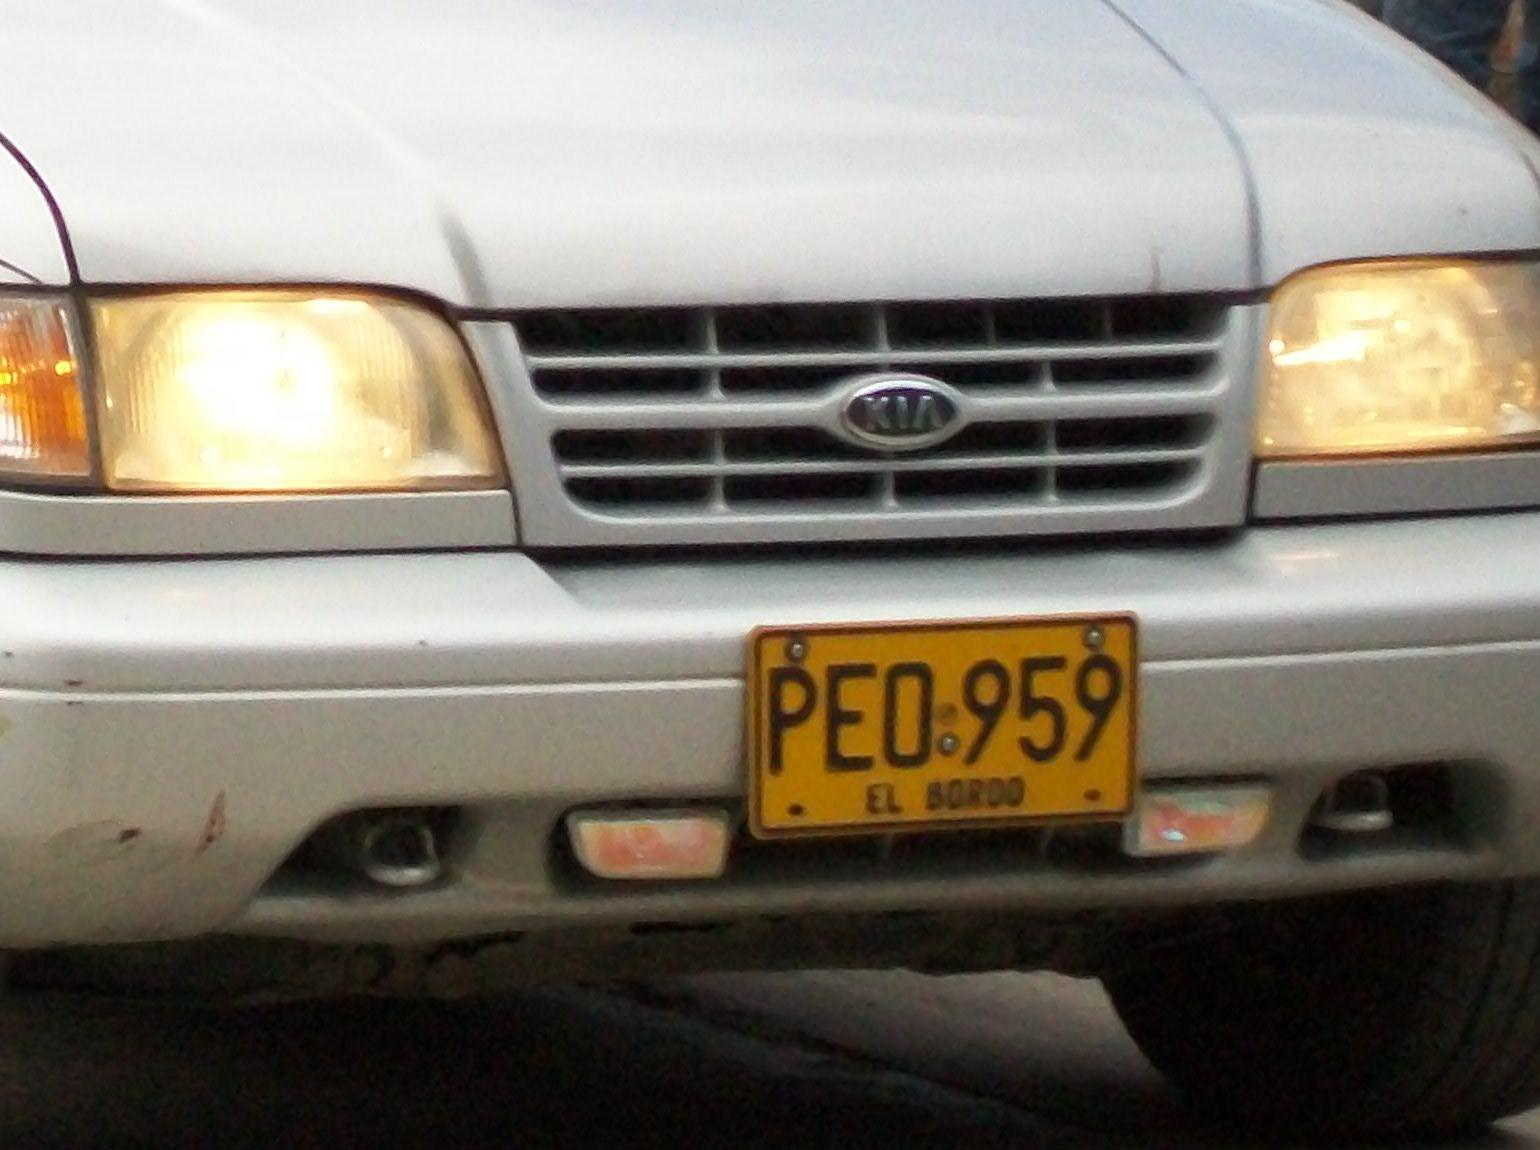placas: (737, 601, 1142, 844)
